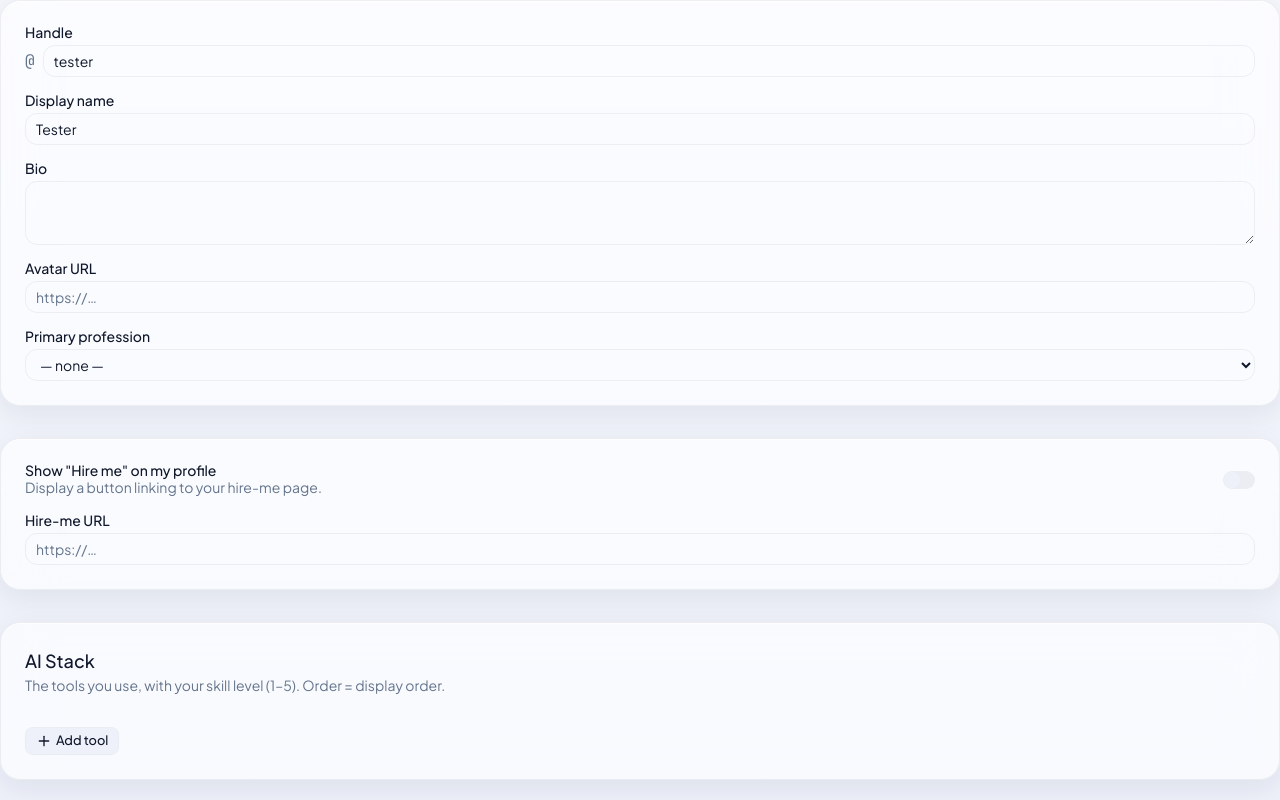
Test: ProfileForm › adds an AI Stack row when 'Add tool' is clicked
Check: the field with placeholder "e.g. Midjourney" is not shown
Click the button "Add tool" at (72, 741), box [25, 727, 119, 755]
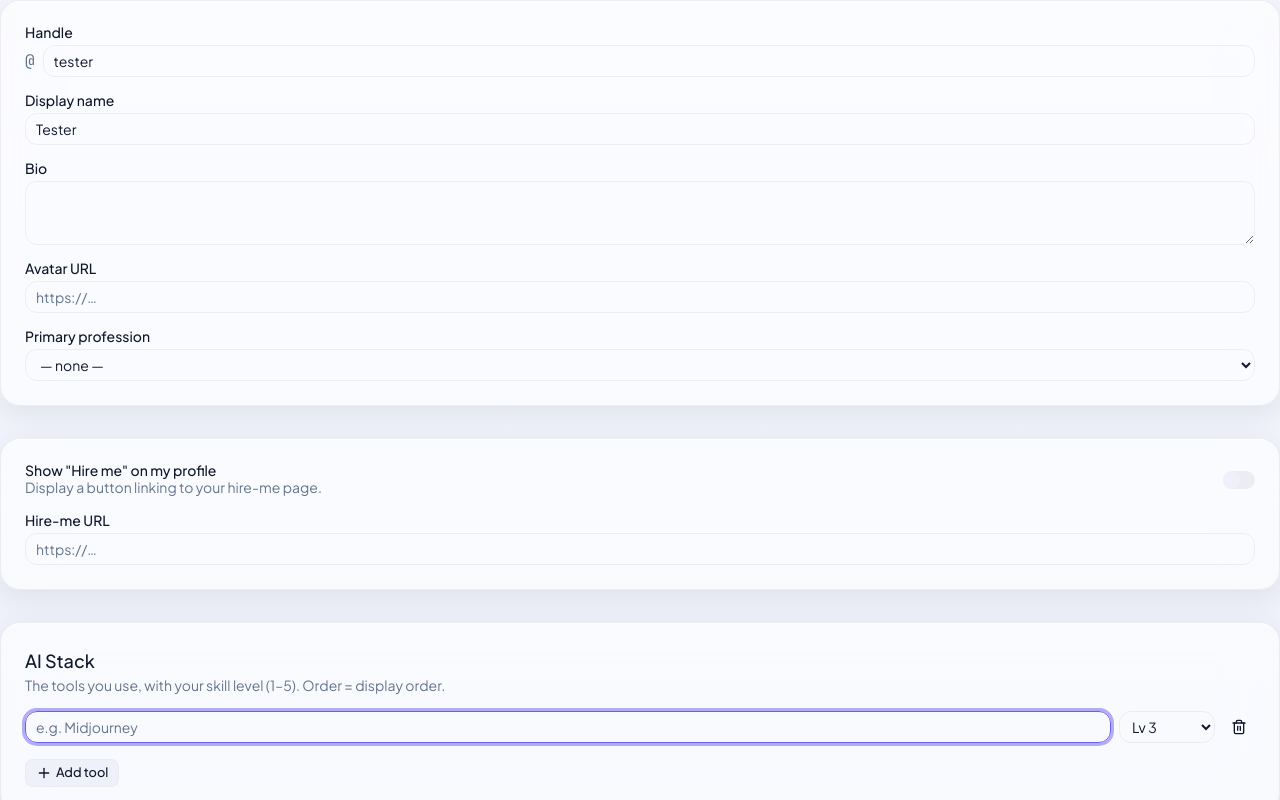
Check: the field with placeholder "e.g. Midjourney" is shown, box [25, 711, 1111, 743]
